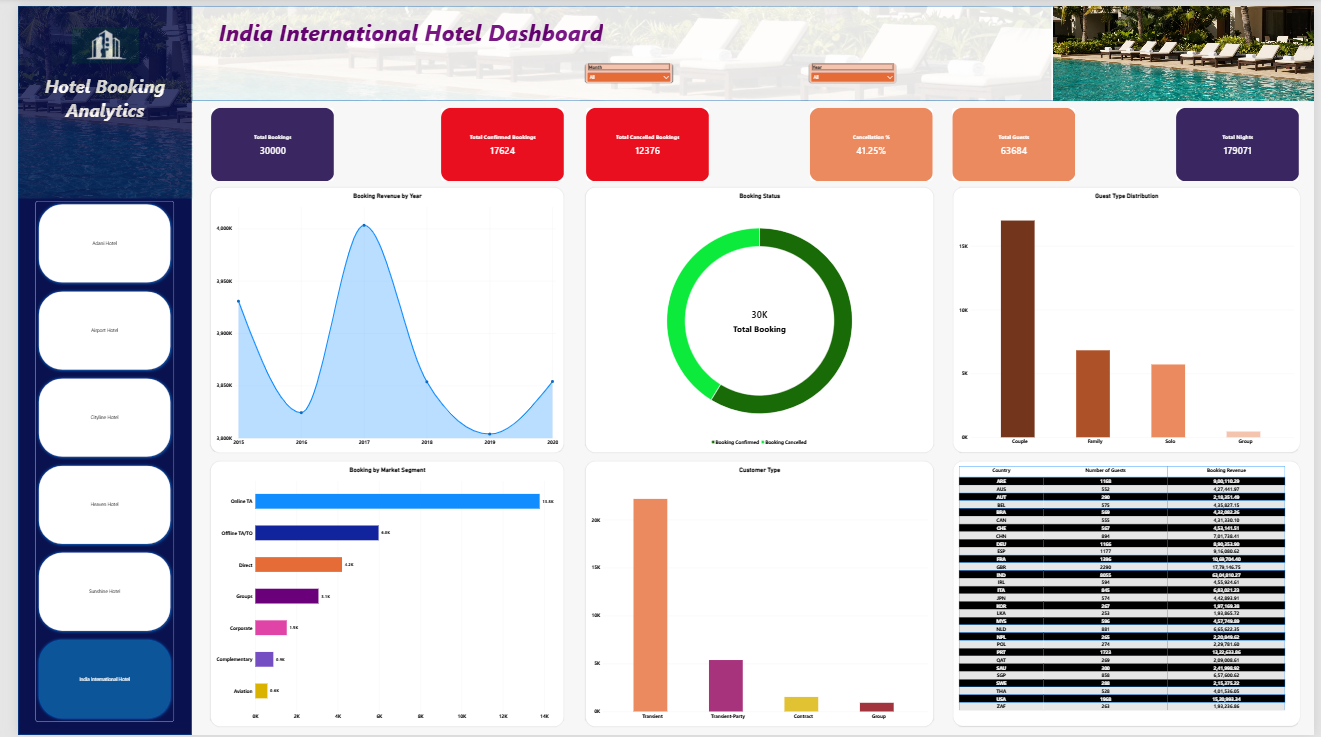

This screenshot's page, from the dashboard's own definition file:
{"tool":"powerbi","page":{"name":"India International Hotel","canvas":[3840,2160],"ordinal":5},"visuals":[{"type":"shape","box":[0,0,515,2160],"z":0},{"type":"image","box":[158,62,200,107],"z":1000},{"type":"shape","box":[515.4,0,3323.1,280.8],"z":2000},{"type":"image","box":[3065.6,0,775,281.2],"z":3000},{"type":"image","box":[515.6,0,2546.9,281.2],"z":4000},{"type":"donutChart","title":"Booking  Status ","fields":{"Category":["India_International_Hotel.Booking  Status"],"Y":["CountNonNull(India_International_Hotel.Booking  Status)"]},"box":[1681.2,537.5,1031.7,786.7],"z":5000},{"type":"barChart","title":"Booking by Market Segment ","fields":{"Category":["India_International_Hotel.market_segment"],"Y":["CountNonNull(India_International_Hotel.market_segment)"]},"box":[570.8,1347.9,1047.5,787.5],"z":6000},{"type":"clusteredColumnChart","title":"Guest  Type  Distribution","fields":{"Category":["India_International_Hotel.Guest  Type"],"Y":["CountNonNull(India_International_Hotel.Guest  Type)"]},"box":[2768.8,537.5,1028.6,785.7],"z":7000},{"type":"stackedAreaChart","title":"Booking  Revenue by Year","fields":{"Category":["India_International_Hotel.Year"],"Y":["Sum(India_International_Hotel.Booking  Revenue)"]},"box":[570.8,537.5,1047.5,787.5],"z":8000},{"type":"cardVisual","title":"Total Bookings","fields":{"Data":["India_International_Hotel.Total Confirmed  Bookings"]},"box":[1250.6,301.2,367.5,220],"z":9000},{"type":"cardVisual","title":"Total Bookings","fields":{"Data":["India_International_Hotel.total_nights"]},"box":[3429.4,300,367.5,220],"z":10000},{"type":"cardVisual","title":"Total Bookings","fields":{"Data":["India_International_Hotel.cancellation   %"]},"box":[2345.9,300,367.5,220],"z":11000},{"type":"cardVisual","title":"Total Bookings","fields":{"Data":["India_International_Hotel.total_guests"]},"box":[2768.2,300,367.5,220],"z":12000},{"type":"cardVisual","title":"Total Bookings","fields":{"Data":["India_International_Hotel.Total cancelled  Bookings"]},"box":[1681.2,300,367.5,220],"z":13000},{"type":"image","box":[0,0,517.5,570],"z":14000},{"type":"pageNavigator","box":[53.3,576.7,410,1543.3],"z":15000},{"type":"slicer","fields":{"Values":["India_International_Hotel.Year"]},"box":[2345.5,170.9,257.8,57.8],"z":16000},{"type":"slicer","fields":{"Values":["India_International_Hotel.Month"]},"box":[1681.8,170.9,257.8,57.8],"z":17000},{"type":"clusteredColumnChart","title":"Customer Type","fields":{"Category":["India_International_Hotel.customer_type"],"Y":["CountNonNull(India_International_Hotel.customer_type)"]},"box":[1681.2,1347.9,1031.5,787],"z":18000},{"type":"tableEx","fields":{"Values":["India_International_Hotel.country","CountNonNull(India_International_Hotel.country)","Sum(India_International_Hotel.Booking  Revenue)"]},"box":[2768.8,1347.9,1028.6,785.7],"z":19000},{"type":"cardVisual","title":"Total Bookings","fields":{"Data":["CountNonNull(India_International_Hotel.Booking  Status)"]},"box":[571.4,301.4,367.5,220],"z":19001}]}

Visuals, with their boxes in screenshot pixels (x1, y1, x2, y2), scaled from the page's 3840x2160 canvas onto the 1321x737 screenshot:
shape: pyautogui.locateOnScreen(0, 0, 177, 736)
image: pyautogui.locateOnScreen(54, 21, 123, 58)
shape: pyautogui.locateOnScreen(177, 0, 1320, 96)
image: pyautogui.locateOnScreen(1055, 0, 1320, 96)
image: pyautogui.locateOnScreen(177, 0, 1054, 96)
"Booking  Status " donutChart: pyautogui.locateOnScreen(578, 183, 933, 452)
"Booking by Market Segment " barChart: pyautogui.locateOnScreen(196, 460, 557, 729)
"Guest  Type  Distribution" clusteredColumnChart: pyautogui.locateOnScreen(952, 183, 1306, 451)
"Booking  Revenue by Year" stackedAreaChart: pyautogui.locateOnScreen(196, 183, 557, 452)
"Total Bookings" cardVisual: pyautogui.locateOnScreen(430, 103, 557, 178)
"Total Bookings" cardVisual: pyautogui.locateOnScreen(1180, 102, 1306, 177)
"Total Bookings" cardVisual: pyautogui.locateOnScreen(807, 102, 933, 177)
"Total Bookings" cardVisual: pyautogui.locateOnScreen(952, 102, 1079, 177)
"Total Bookings" cardVisual: pyautogui.locateOnScreen(578, 102, 705, 177)
image: pyautogui.locateOnScreen(0, 0, 178, 194)
pageNavigator: pyautogui.locateOnScreen(18, 197, 159, 723)
slicer - India_International_Hotel.Year: pyautogui.locateOnScreen(807, 58, 896, 78)
slicer - India_International_Hotel.Month: pyautogui.locateOnScreen(579, 58, 667, 78)
"Customer Type" clusteredColumnChart: pyautogui.locateOnScreen(578, 460, 933, 728)
tableEx - India_International_Hotel.country x CountNonNull(India_International_Hotel.country): pyautogui.locateOnScreen(952, 460, 1306, 728)
"Total Bookings" cardVisual: pyautogui.locateOnScreen(197, 103, 323, 178)
